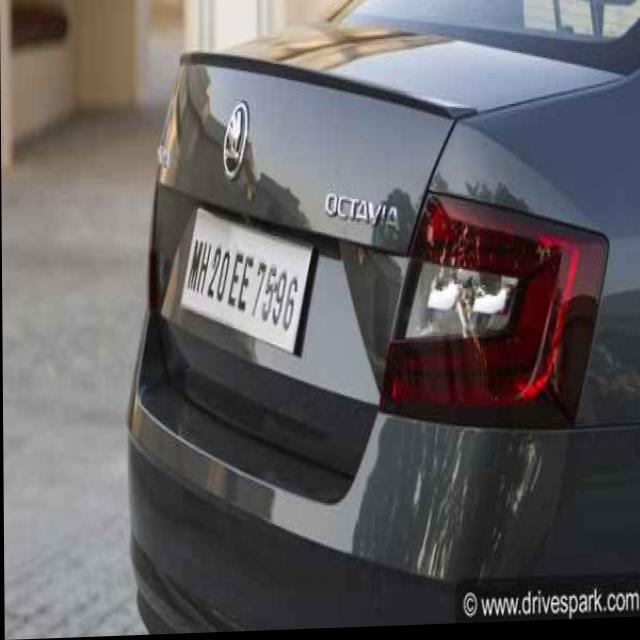licence: (170, 227, 316, 338)
